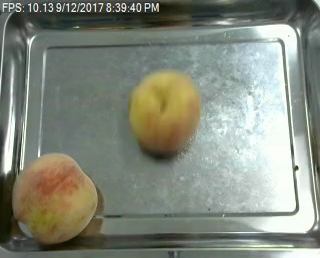Peach: (11, 152, 98, 245), (128, 70, 201, 155)
